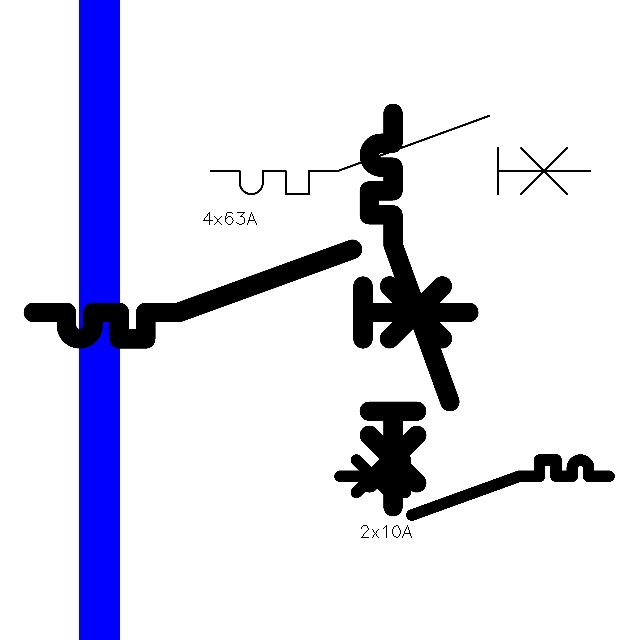interruptor_termomagnetico: (22, 238, 480, 350), (359, 103, 460, 517), (201, 106, 600, 204), (333, 453, 616, 522)
